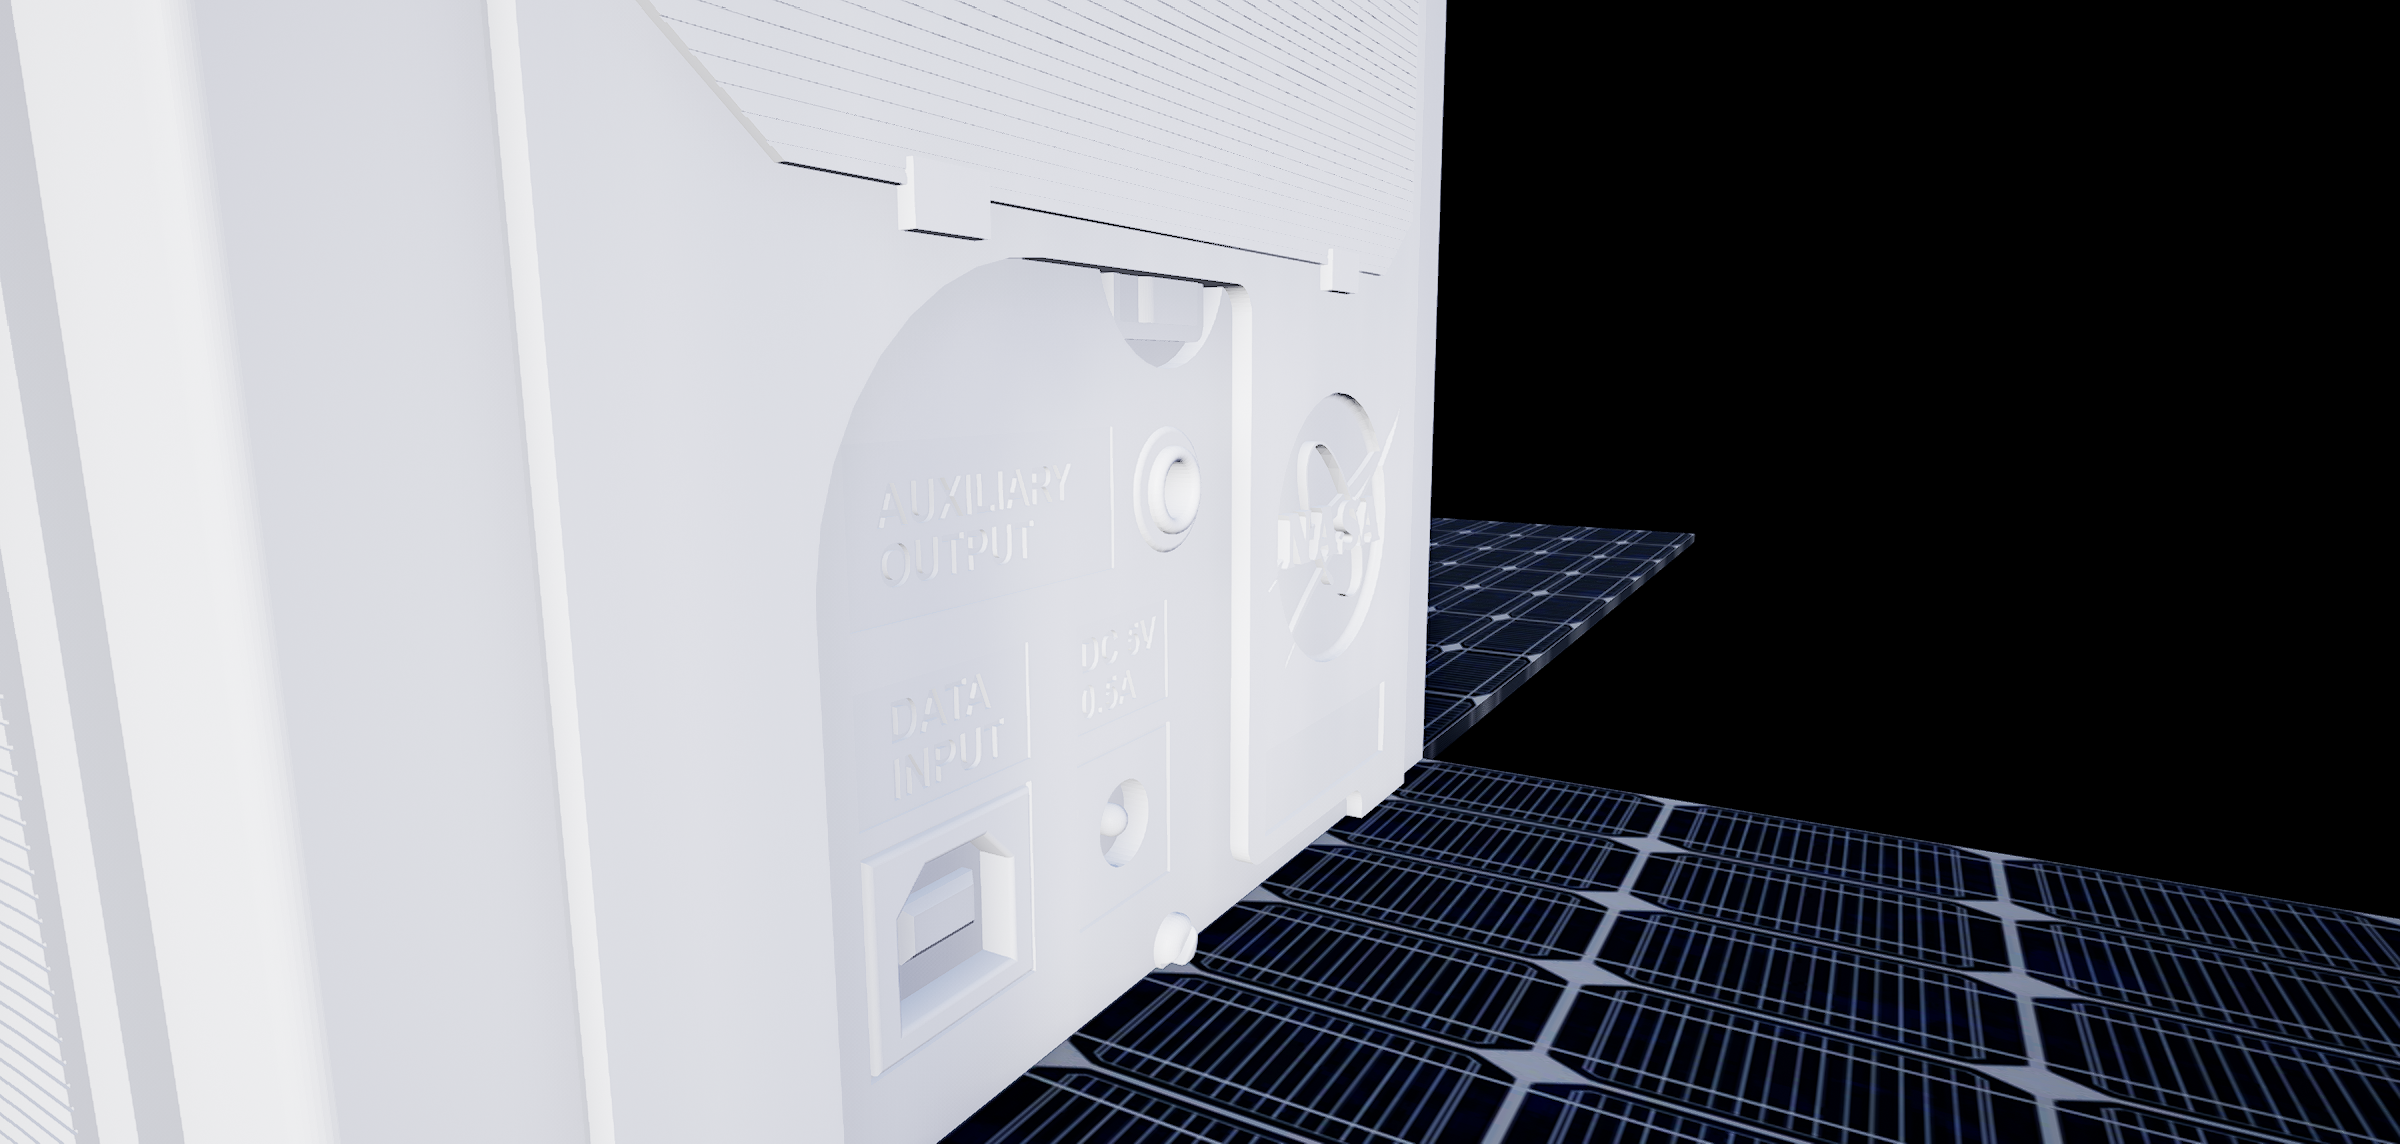aux: (1130, 417, 1221, 557)
dc: (1091, 776, 1160, 879)
usb: (892, 829, 1021, 1044)
